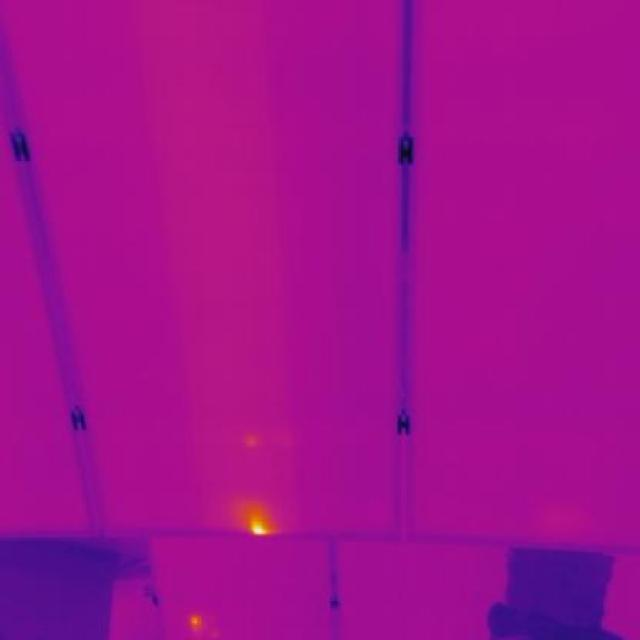hotspot: (228, 503, 274, 540)
